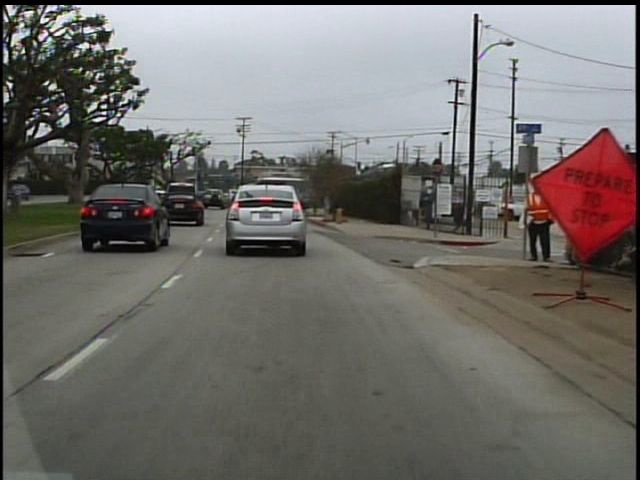person: (514, 172, 554, 265)
